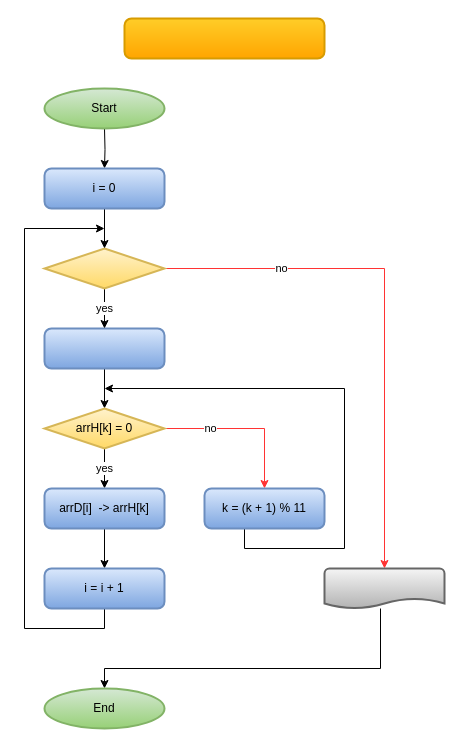
This 463x746 diagram has some shape labels left out. Here are the shapes that lost their labels. From the top down, the centre of each, then its label:
the point at 224,38: 해시 탐색법
the point at 104,268: i < len(arrD)
the point at 104,348: arrD[i] % 11 -> k
the point at 384,588: arrH
